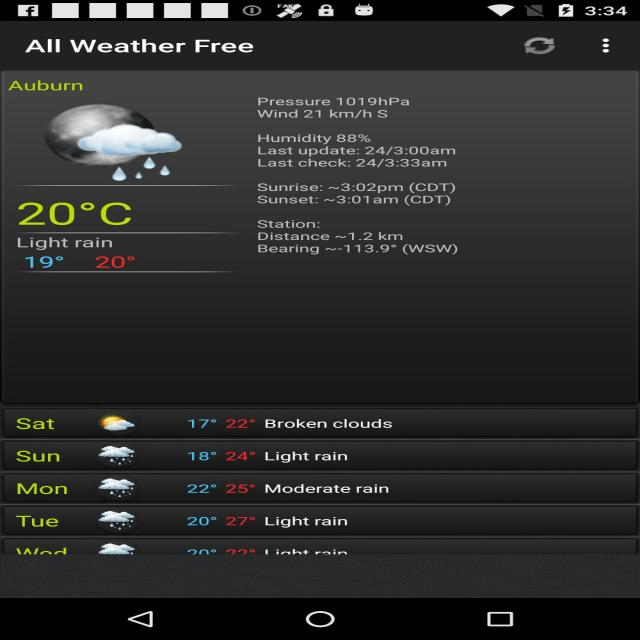button: (590, 34, 624, 59)
icon: (517, 34, 560, 58)
image: (42, 99, 189, 187), (86, 510, 153, 531), (98, 414, 134, 437), (89, 540, 143, 555), (100, 475, 139, 495), (95, 445, 132, 462)
text: (252, 90, 469, 262), (175, 405, 384, 557), (18, 200, 158, 266), (14, 415, 76, 556), (22, 34, 274, 60), (10, 76, 94, 95)
